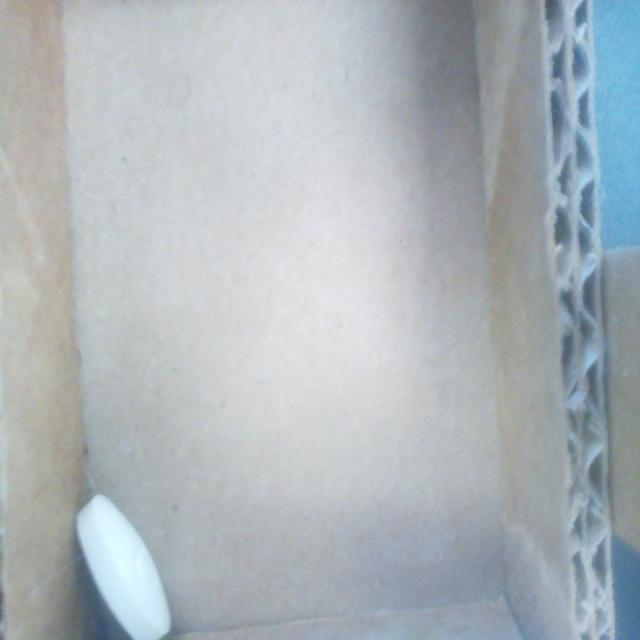pill: (76, 495, 171, 640)
